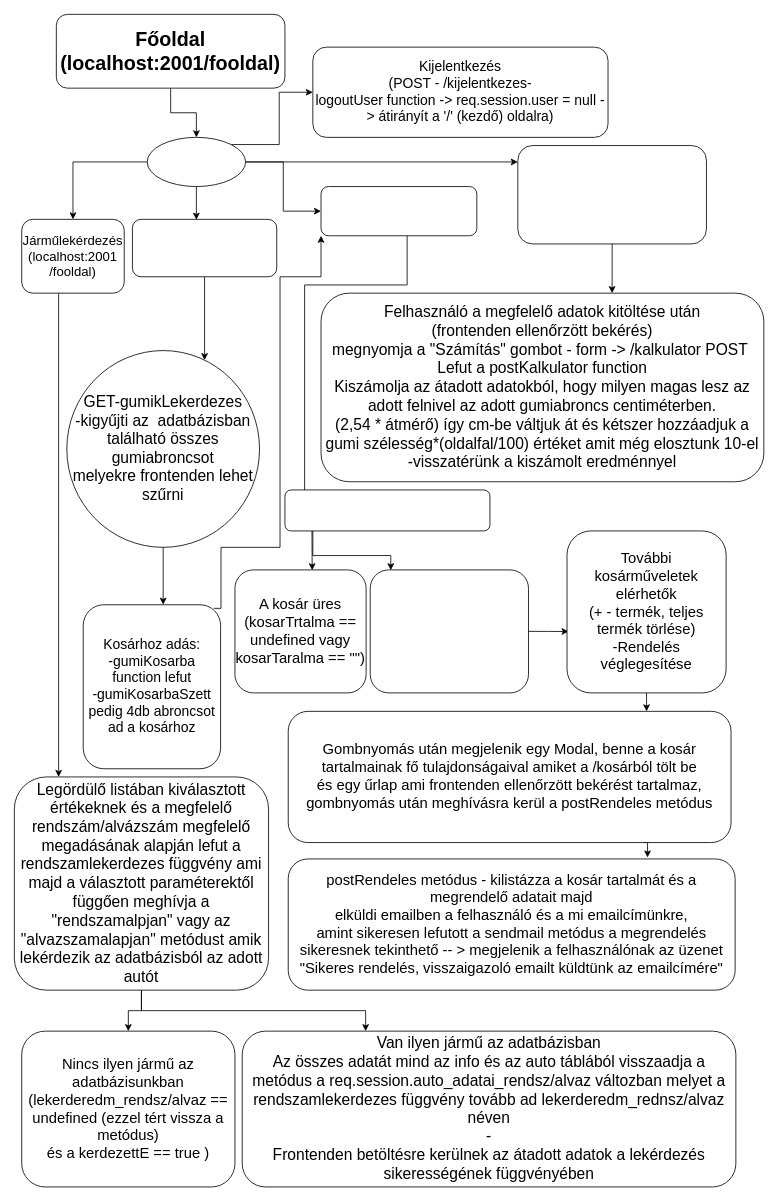
The diagram is 778 pixels wide and 1201 high, and some of its shapes have lost their labels. Each missing label, with the box of its shape:
A kosár tartalma betöltésre kerül a szerver oldalon elmentett változóból: (369, 569, 528, 693)
GET - gretKosar function lefut: (284, 489, 490, 531)
Gumiabroncs magasság kalkulátor (localhost:2001/kalkulator) (GET): (517, 145, 706, 244)
Kosár (localhost:2001/kosar): (320, 186, 477, 236)
Termékek (localhost:2001 /termekek): (132, 219, 277, 277)
User bejelentkezve: (146, 137, 246, 187)
